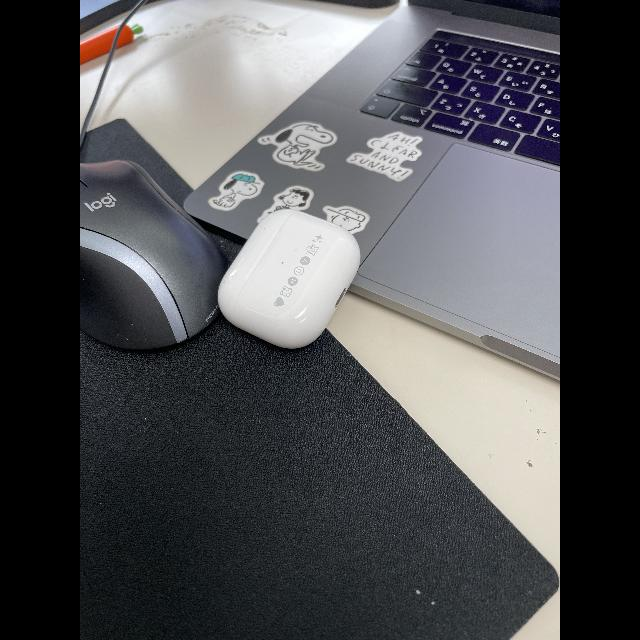airpod3: (200, 200, 366, 350)
